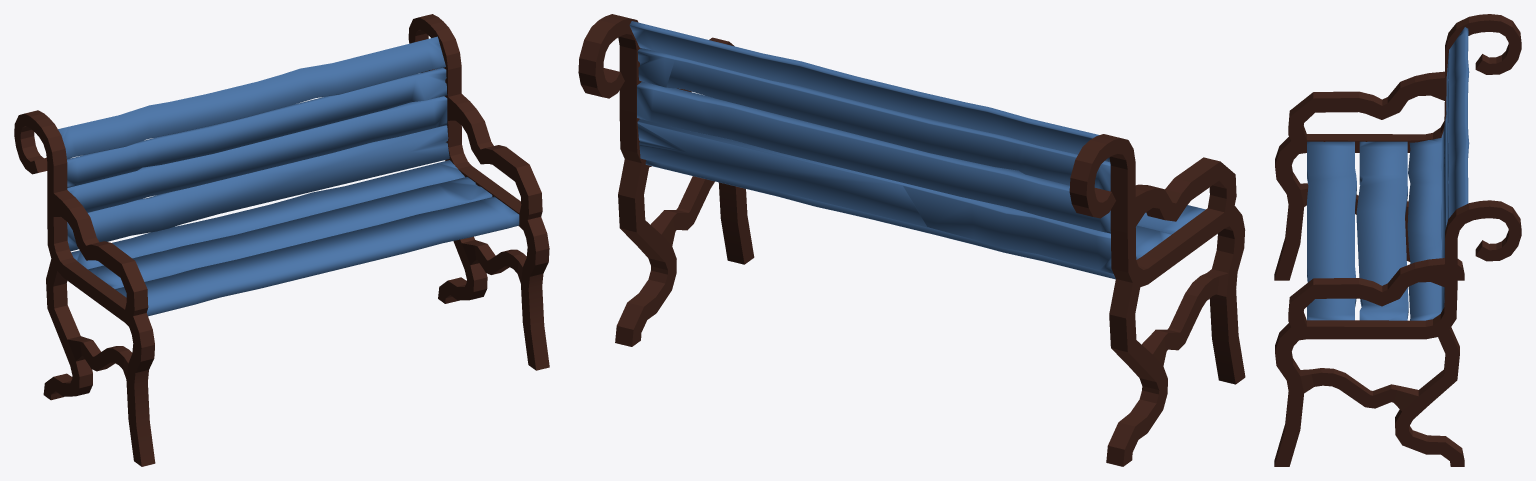
File: Banc_parc_01_LOD0.FBX
3 views of the same model, side by side, from view 1: azimuth 30°, elevation 25°; view 2: azimuth 150°, elevation 25°; view 3: azimuth 270°, elevation 25° (orthographic). The views are drawn at different scales.
Visible parts, largest first — view 1: Banc_Parc_01_LOD0; view 2: Banc_Parc_01_LOD0; view 3: Banc_Parc_01_LOD0.
Part boxes in pixels (x1,y1,x2,y2): Banc_Parc_01_LOD0: (14,14,549,466); Banc_Parc_01_LOD0: (578,14,1245,466); Banc_Parc_01_LOD0: (1274,14,1521,466).
Bounding box in the file's own units: 273 × 172 × 148.
